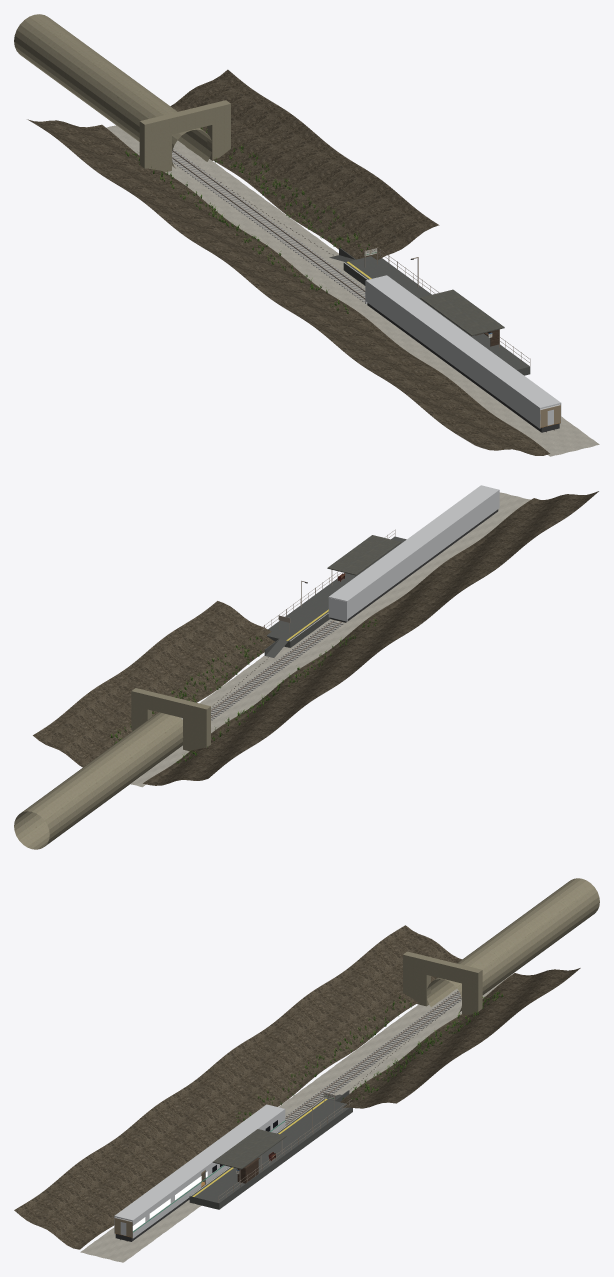
Rendered from space02.glb.
The picture shows the model from 3 angles, top to bottom: view 1: azimuth 30°, elevation 25°; view 2: azimuth 150°, elevation 25°; view 3: azimuth 330°, elevation 25°; orthographic projection. The views are drawn at different scales.
Parts seen in each view (by area): view 1: space02_vlit, space02_static; view 2: space02_vlit, space02_static; view 3: space02_vlit, space02_static.
Part boxes in pixels (x1=…): space02_vlit: x1=27, y1=69, x2=599, y2=456; space02_static: x1=14, y1=14, x2=561, y2=432; space02_vlit: x1=33, y1=491, x2=598, y2=787; space02_static: x1=14, y1=485, x2=499, y2=849; space02_vlit: x1=14, y1=925, x2=580, y2=1262; space02_static: x1=114, y1=878, x2=599, y2=1241.
Size of the model in its own units: 28 by 7.95 by 131.
Materials: 37 (19 with a texture image).
